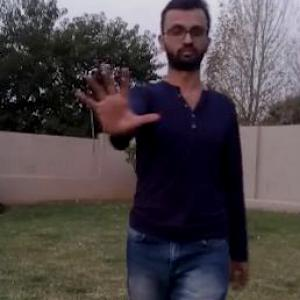follow_hand: (73, 63, 160, 135)
